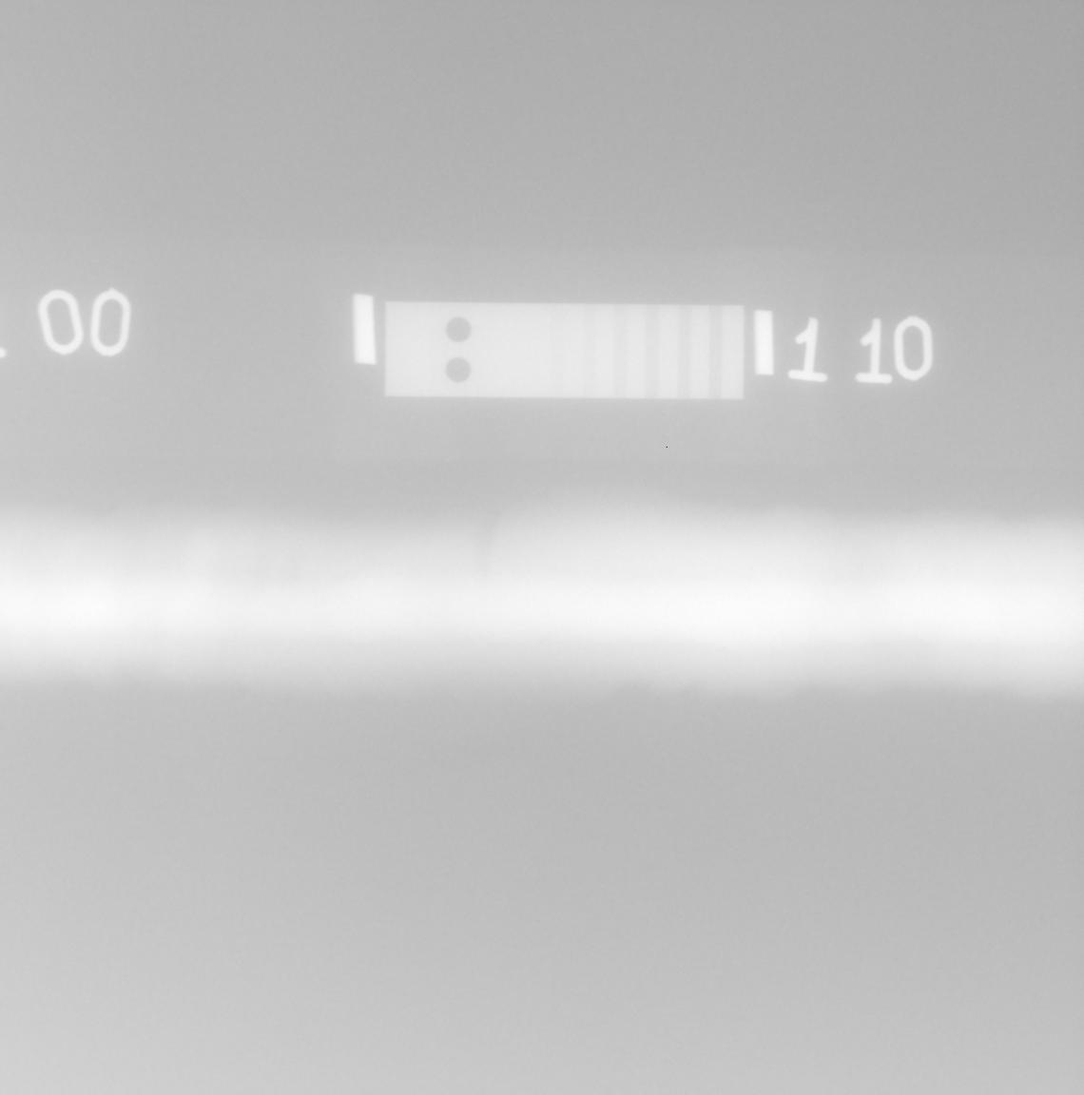Lack of Fusion: (541, 638, 550, 642)
Reference Standard 2: (384, 301, 745, 400)
